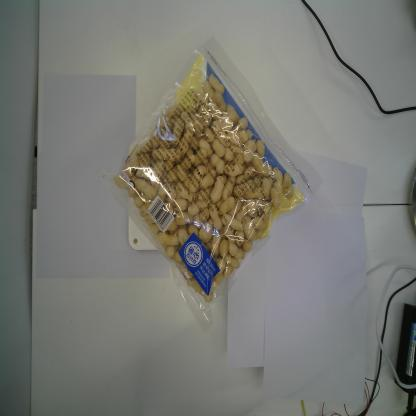Dried Food: (93, 34, 324, 332)
